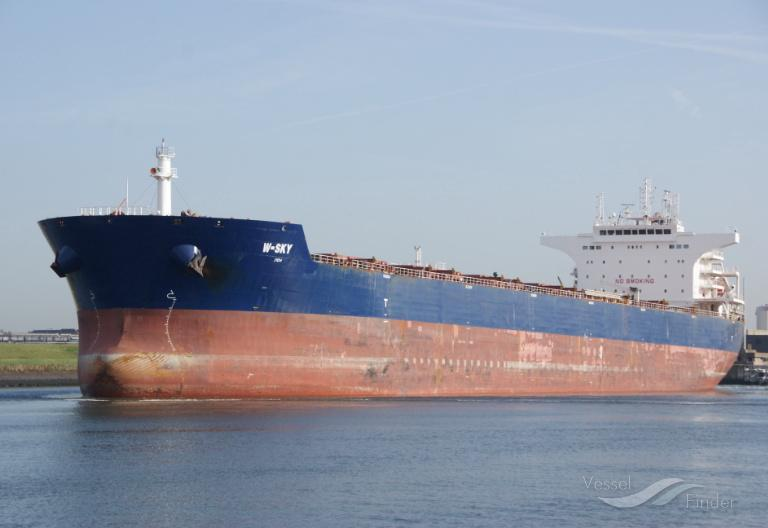OCR: (253, 238, 295, 256)
